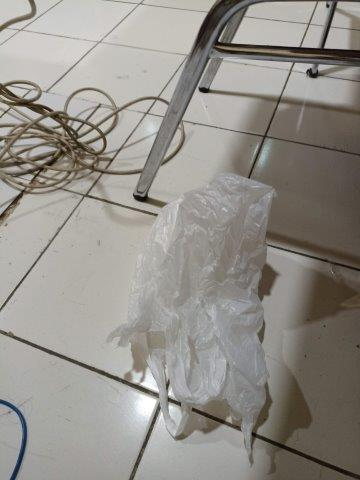plastik: (125, 174, 275, 458)
